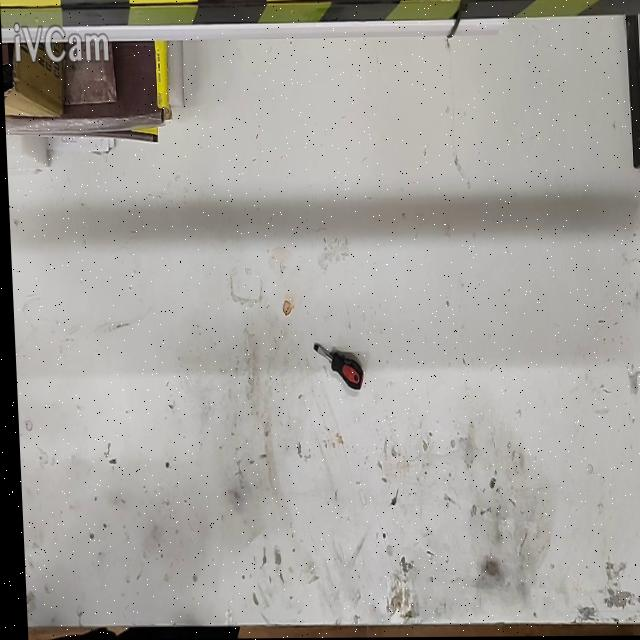Screwdriver: (310, 344, 361, 391)
